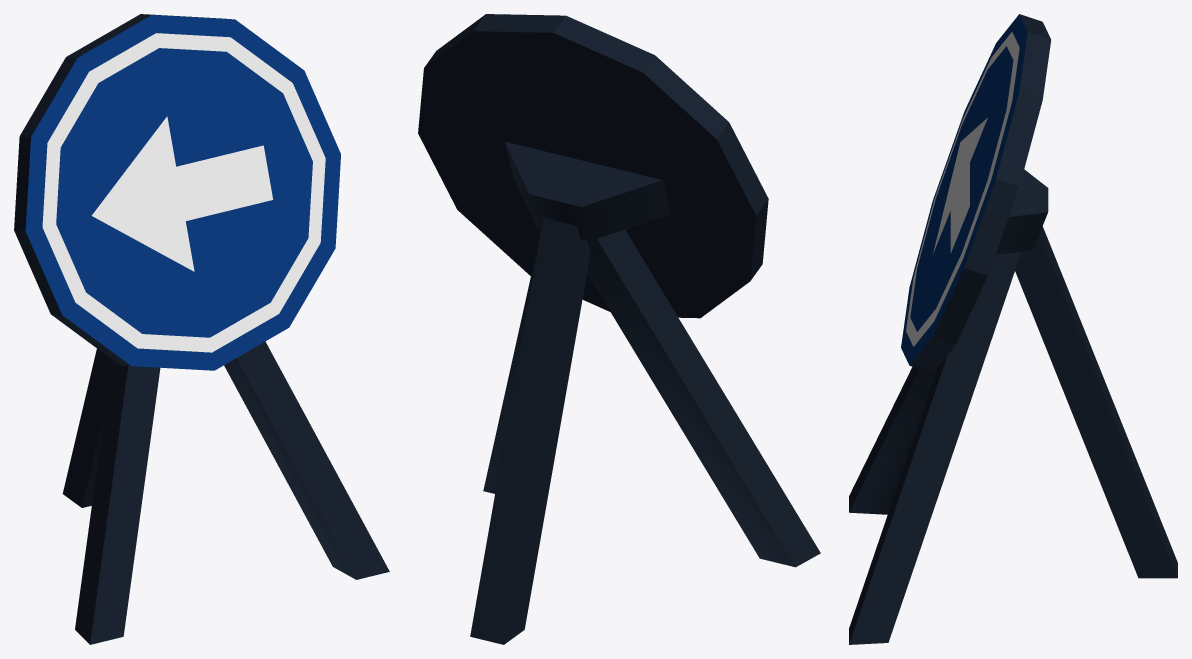
File: Sign_B_Left.fbx
3 views of the same model, side by side, from view 1: azimuth 30°, elevation 25°; view 2: azimuth 150°, elevation 25°; view 3: azimuth 270°, elevation 25° (orthographic). The views are drawn at different scales.
Parts seen in each view (by area): view 1: Sign_B_Left; view 2: Sign_B_Left; view 3: Sign_B_Left.
Boxes of the visible parts, x1,y1,x2,y2 form: Sign_B_Left: (14,14,389,644); Sign_B_Left: (418,14,820,644); Sign_B_Left: (849,14,1177,644).
Size of the model in its own units: 14.28 by 22.88 by 12.66.
